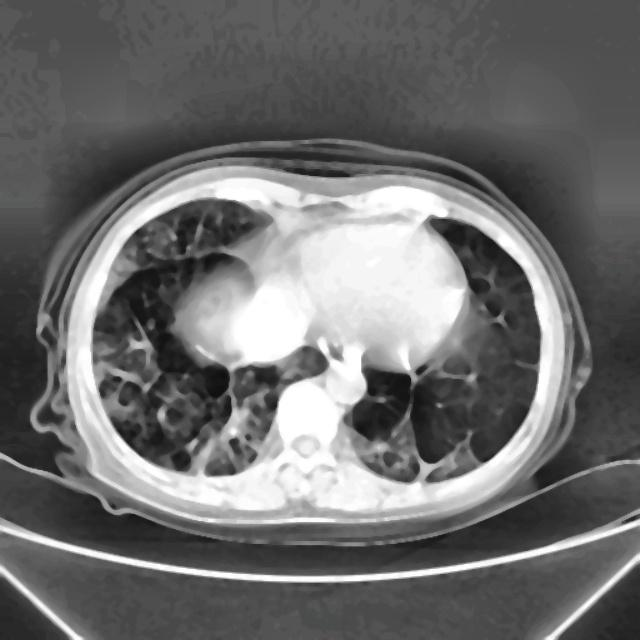covid: (31, 139, 593, 542)
